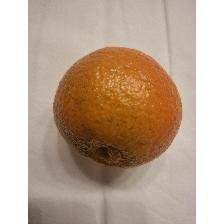Mandarine: (50, 45, 188, 171)
